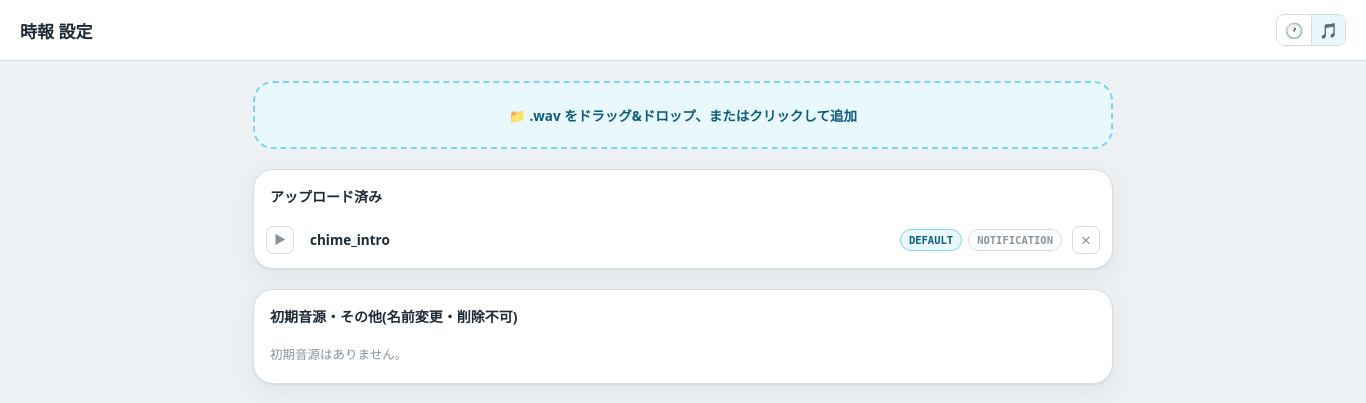
Test: 楽曲管理画面 › 再生中に同じ行のボタンをクリックすると停止する
The image size is (1366, 403).
Check: the button "chime_intro" is shown, box [304,227,890,253]
Click the button named "chime_intro を再生".
click(280, 240)  # box [266,226,294,254]
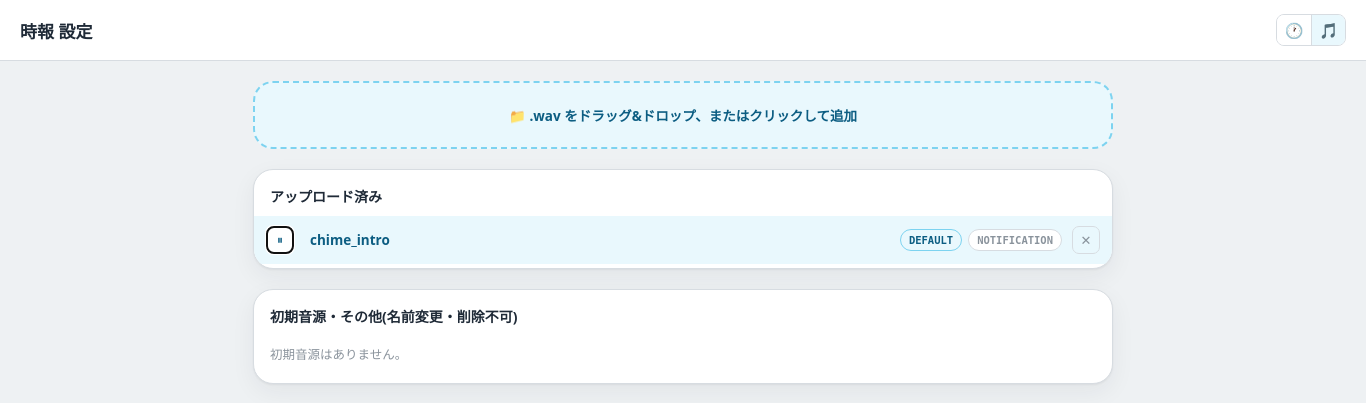
Check: the button named "chime_intro を停止" is shown
Click the button named "chime_intro を停止".
click(280, 240)  # box [266,226,294,254]
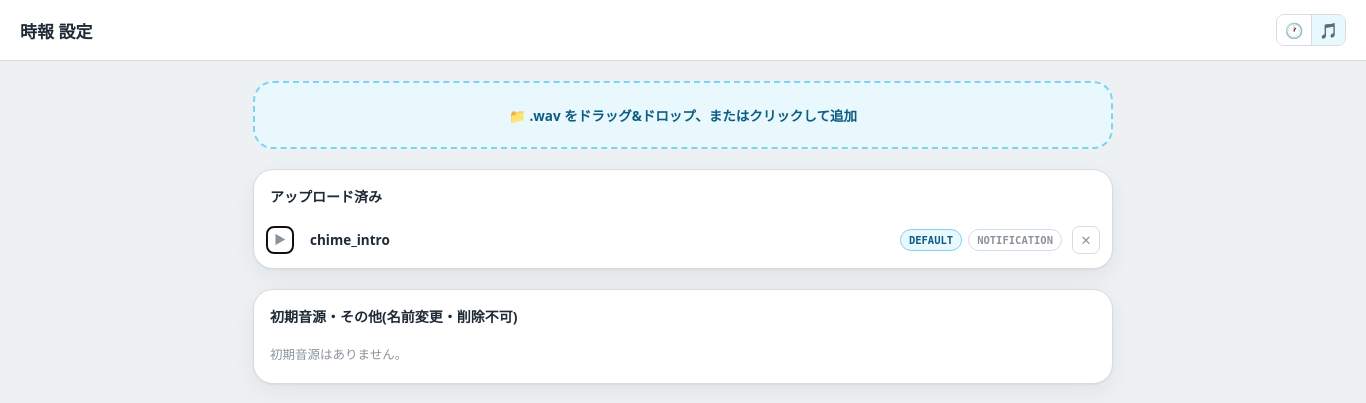
Check: the button named "chime_intro を再生" is shown, box [266,226,294,254]
